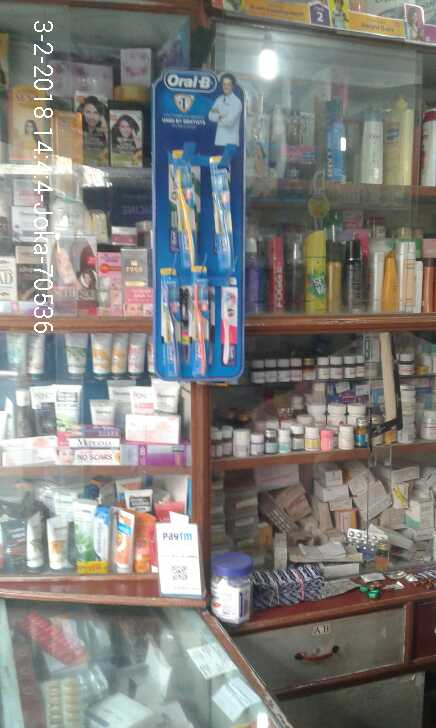oralb: (210, 151, 237, 271), (171, 160, 200, 270), (185, 272, 211, 379), (162, 270, 183, 381)
